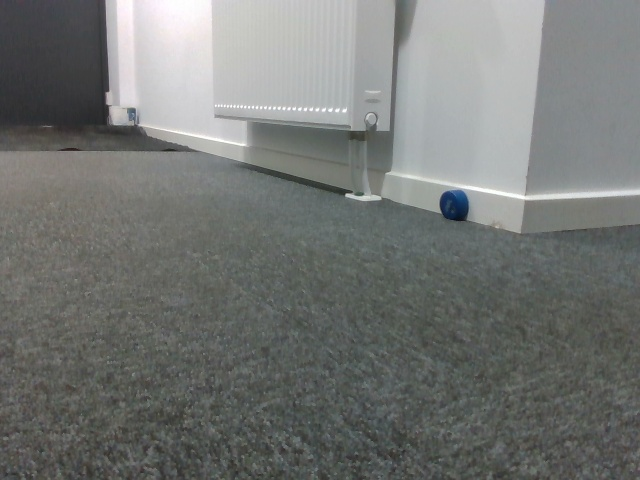alfa: (438, 189, 470, 219)
